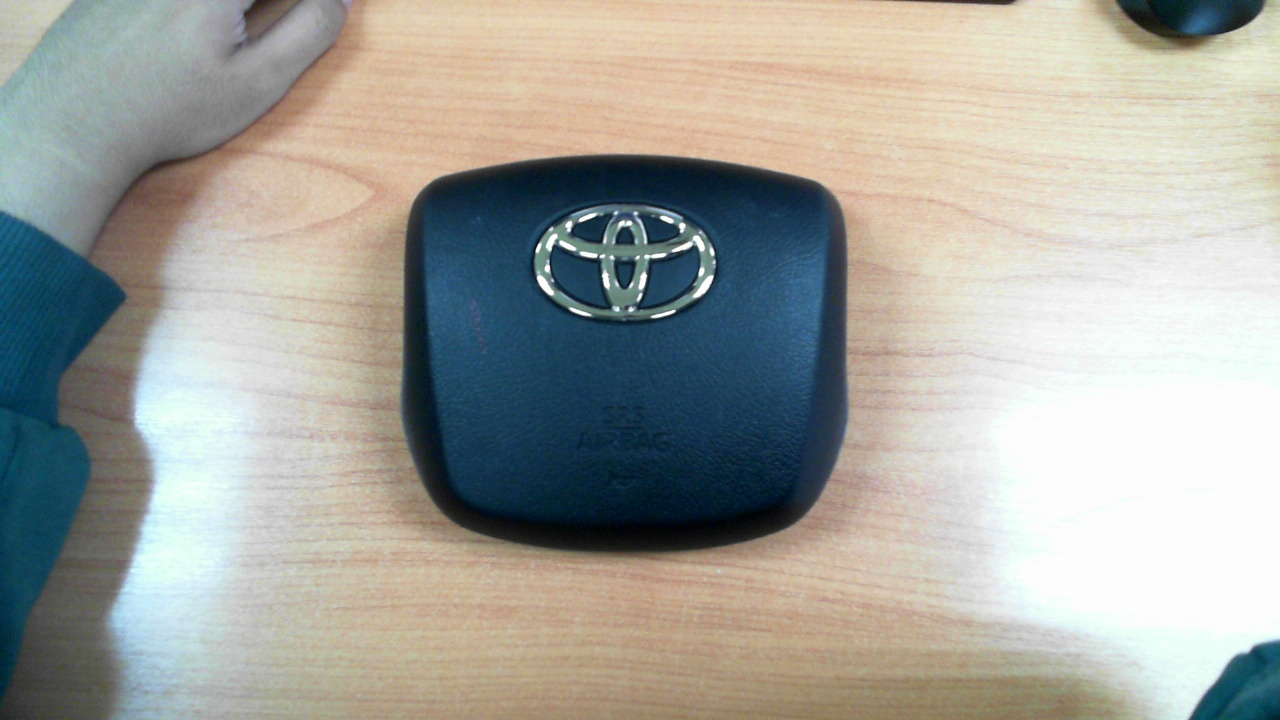Airbag: (400, 153, 849, 554)
Toyota: (533, 203, 716, 322)
